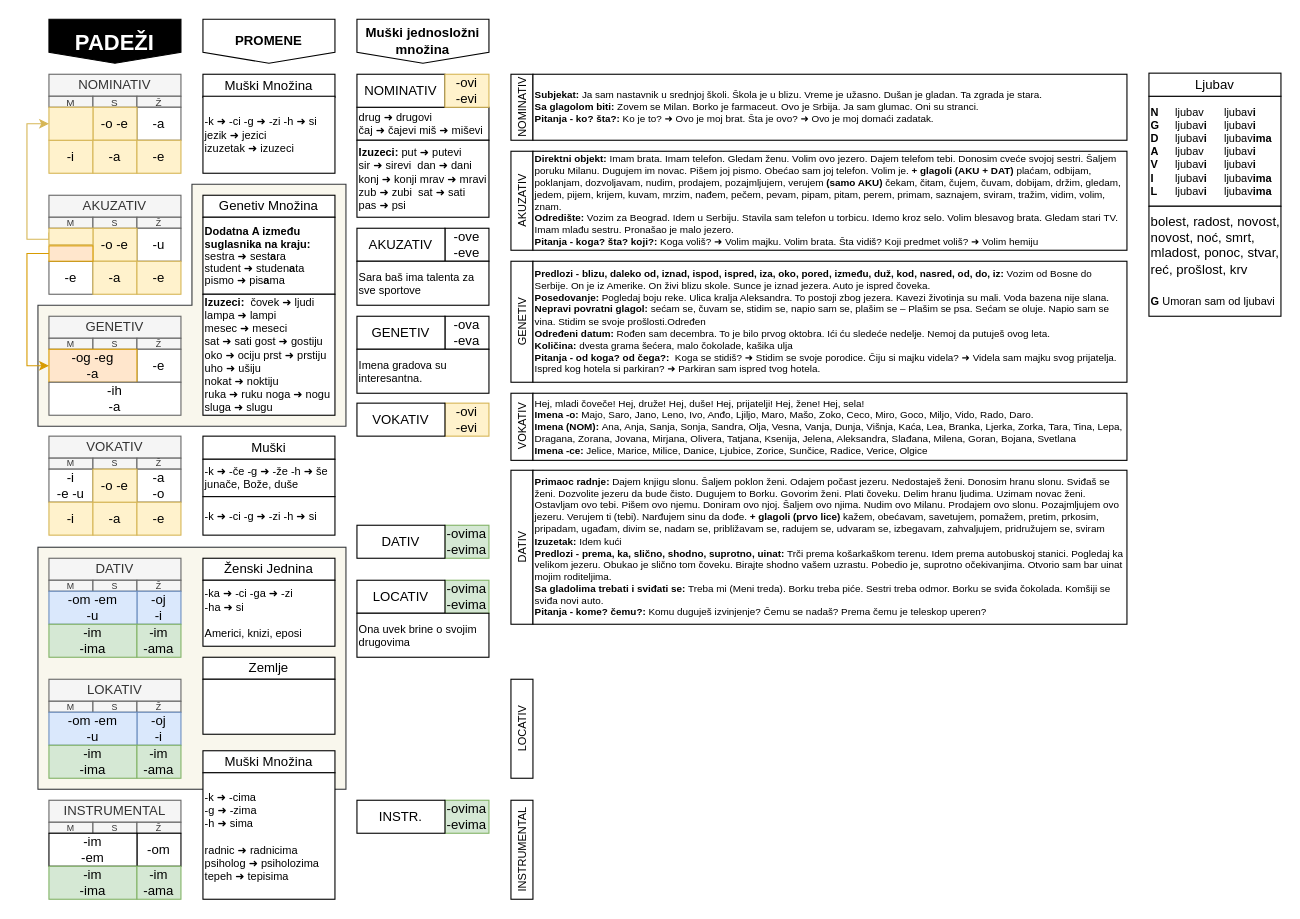
This 1300x919 diagram has some shape labels left out. Here are the shapes that lost their labels. From the top down, the centre of each, then its label:
pixel 70 236: non living
pixel 70 253: living
pixel 268 706: -ska -ška -čka Poljska ➜ Poljskoj
